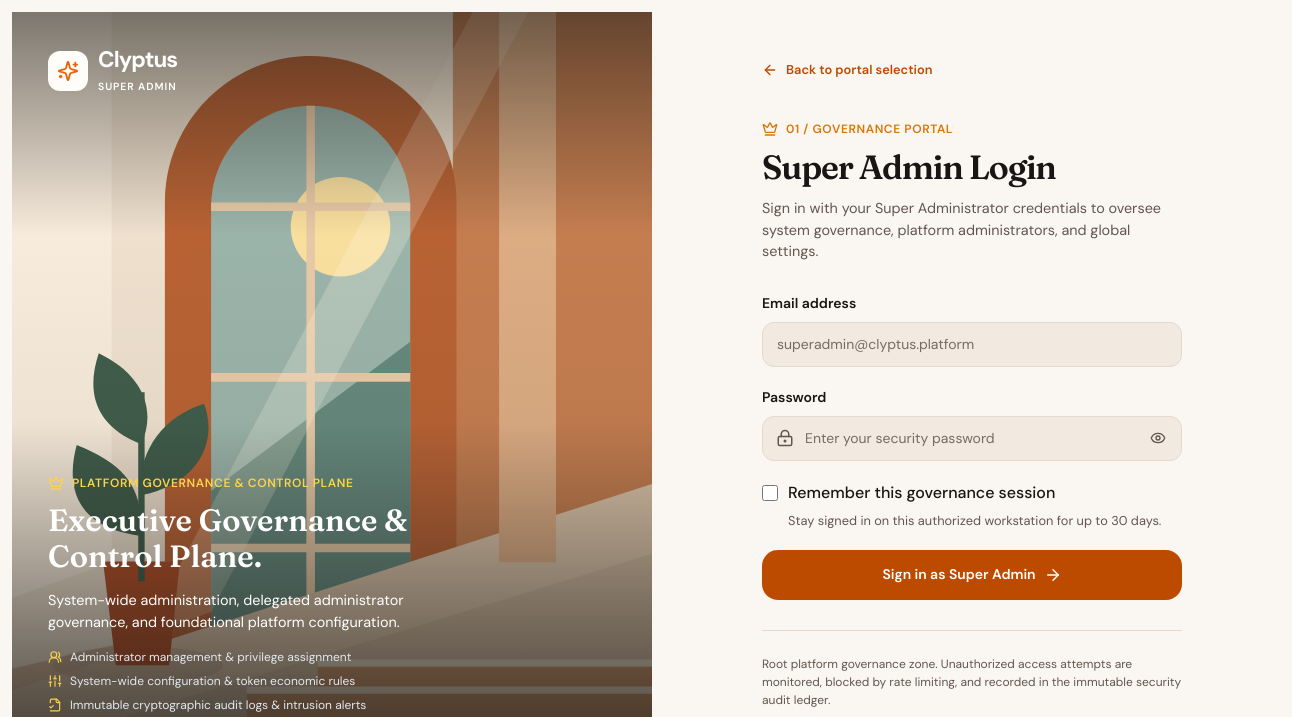
Scenario: Shared landing and separate login pages › opens the Super Admin direct URL and submits its role
Check: the number of forms is 1, box [762,293,1182,600]
Step 1. Type "person@example.test" into the field labelled "Email address" → (972, 344), box [762,322,1182,367]
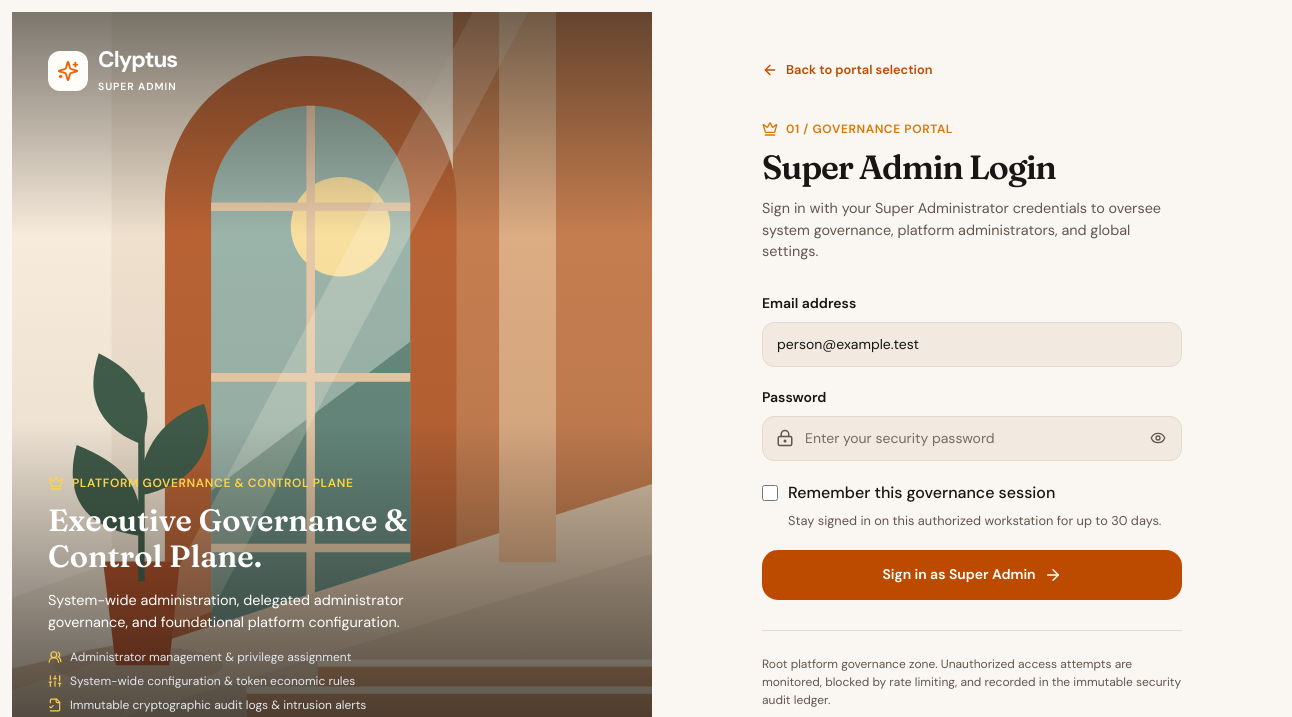
Step 2. Type "StrongPassword!123" into the password field labelled "Password" → (972, 438), box [762,416,1182,461]
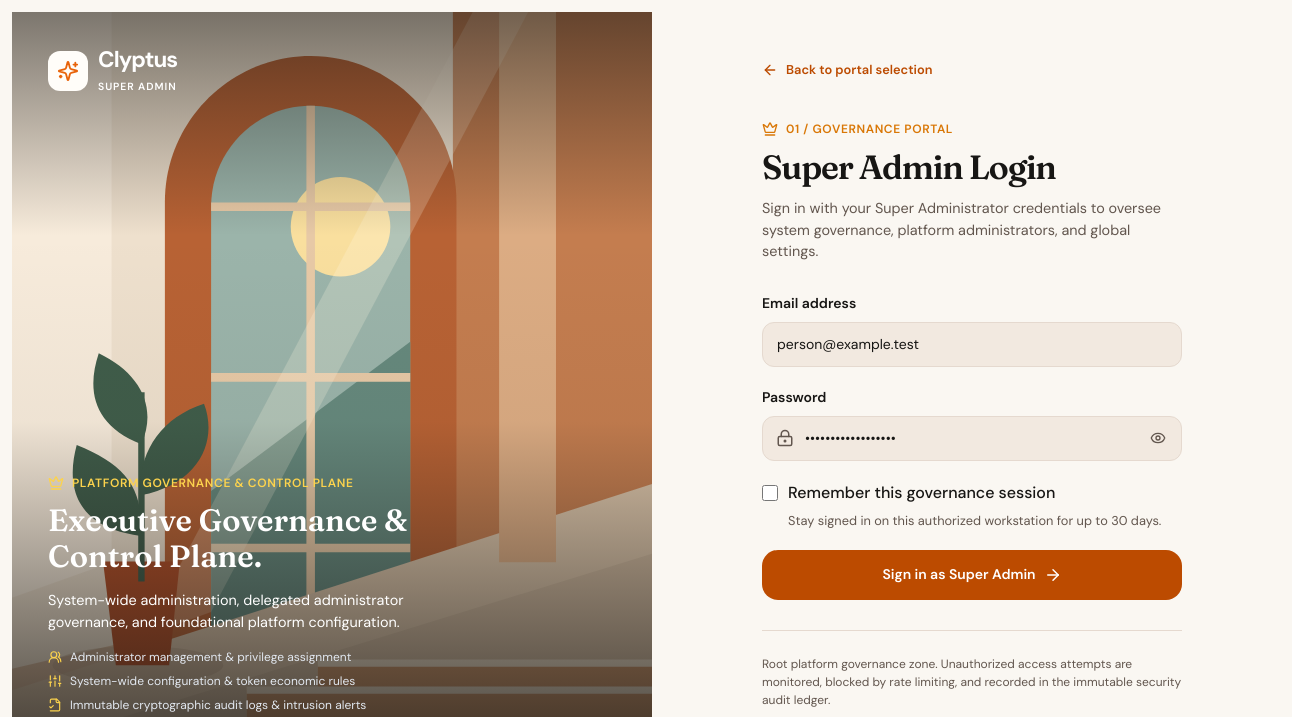
Step 3. Click the button "Sign in as Super Admin" → (972, 575), box [762,550,1182,600]
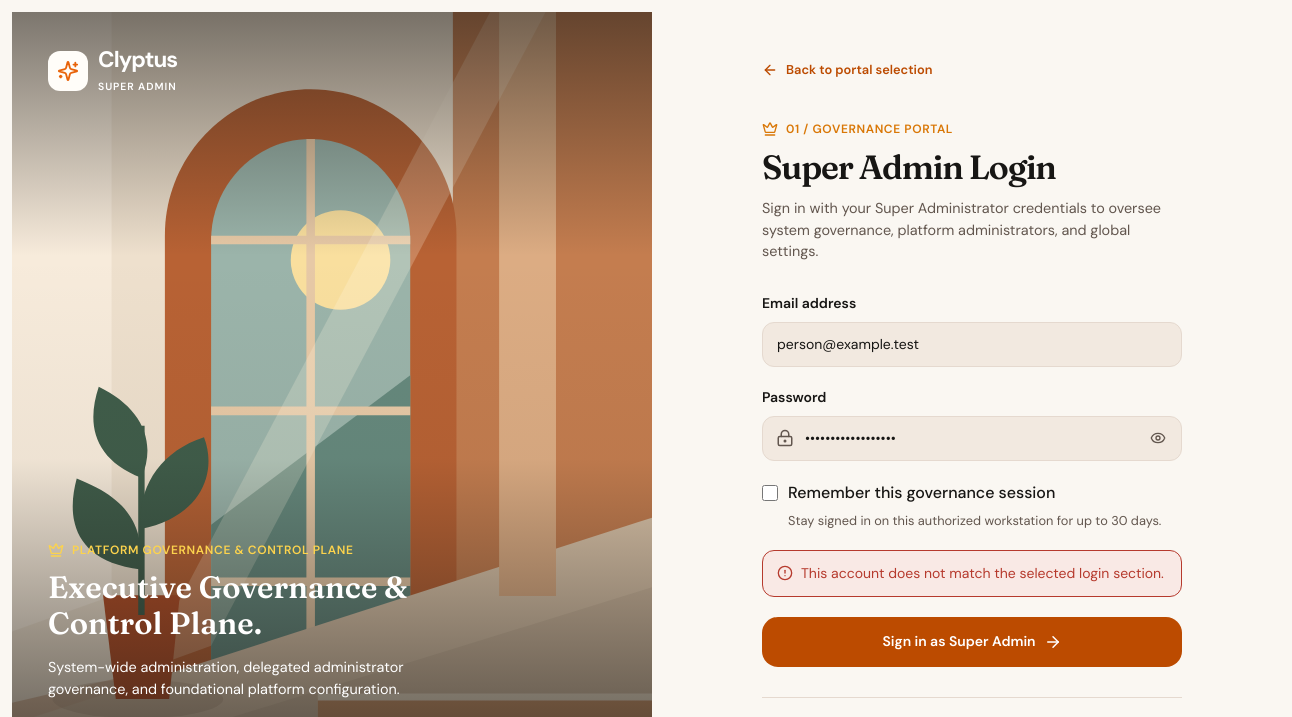
Check: the message "This account does not match the selected login section." is shown, box [762,550,1182,597]
Step 4. Click the link "Back to portal selection" → (847, 70), box [762,60,932,79]
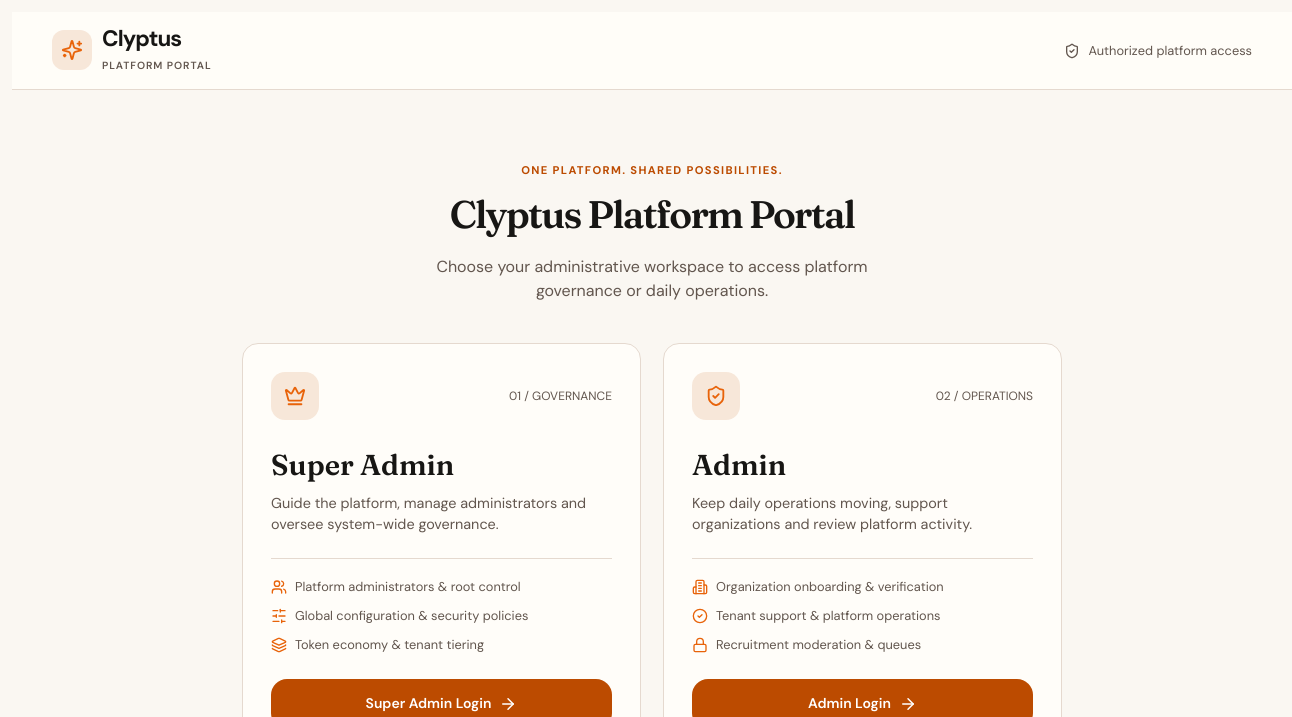
Check: the message "This account does not match the selected login section." is gone
